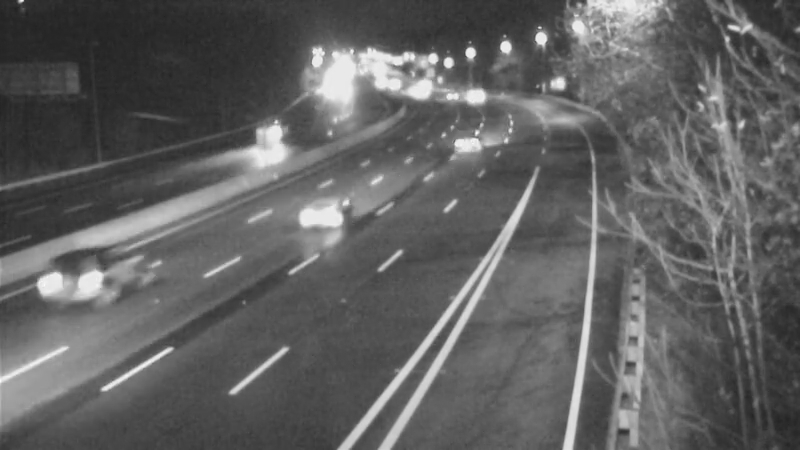vehicle: (294, 173, 374, 253), (33, 245, 113, 325), (393, 65, 443, 115), (451, 72, 501, 122), (441, 115, 491, 165), (241, 115, 291, 165)
